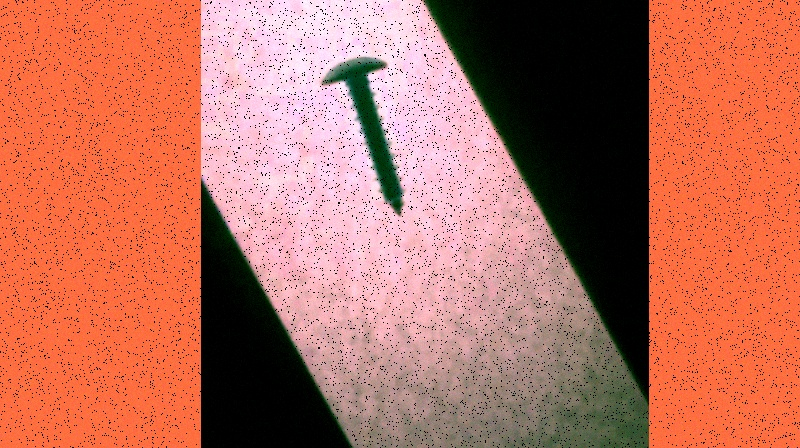S003: (317, 51, 408, 221)
